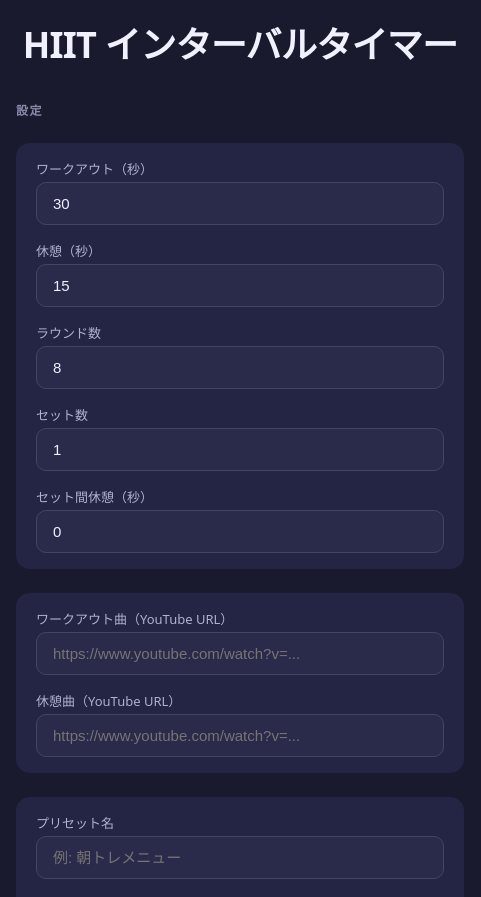
Test: App 統合テスト › 不正な設定値でバリデーションエラーが表示される
Replace the text in the number field labelled "ワークアウト（秒）" with "0". click: point(240, 204)
box: [36,182,444,225]
(page scrolled)
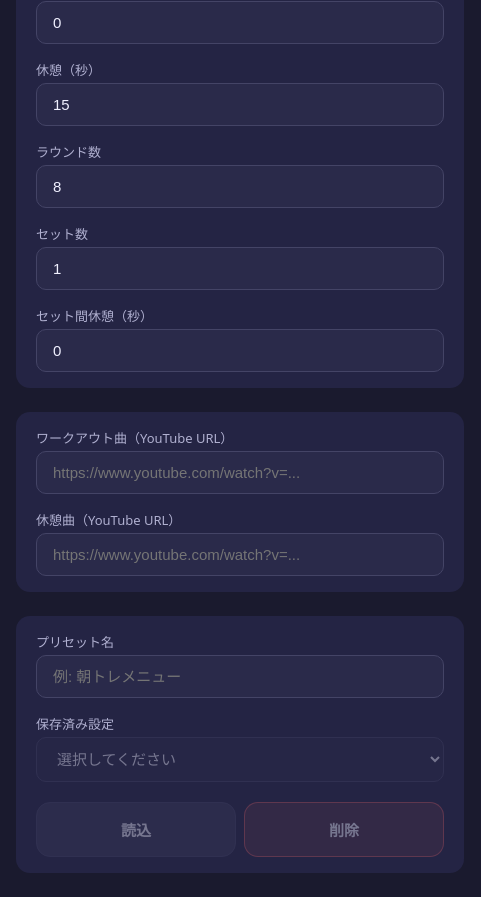
Submit the text "スタート"
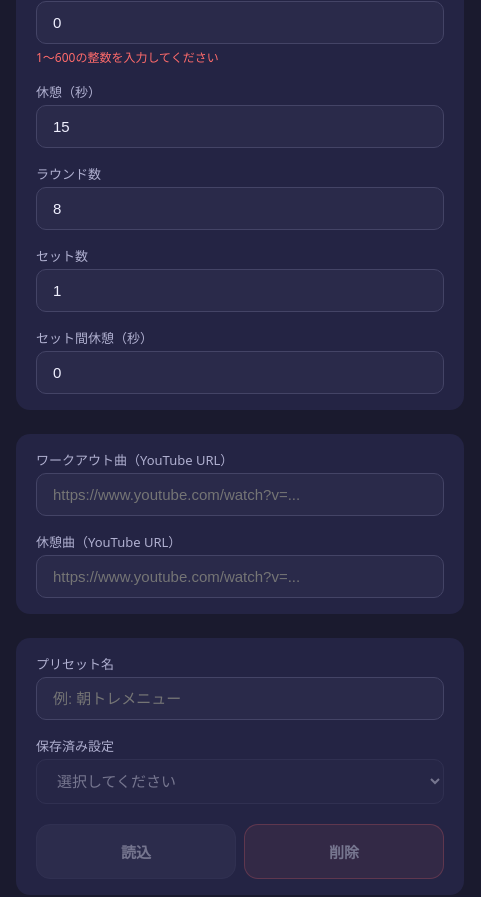
Expected: the message "1〜600の整数を入力してください" is shown, [36,49,219,66]
